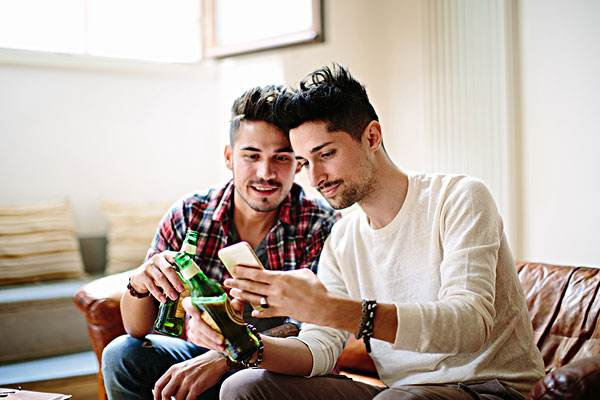reading: (214, 237, 334, 330)
